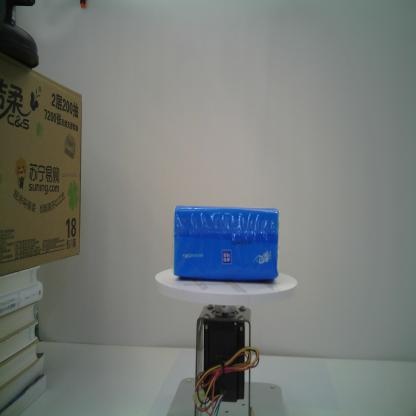Tissue: (171, 203, 281, 284)
